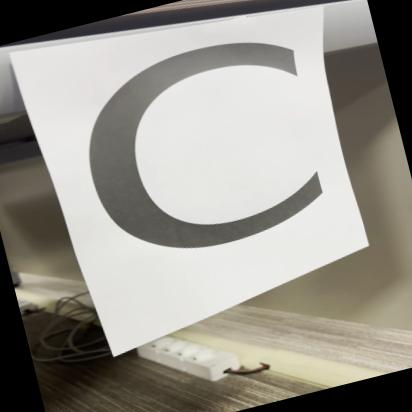seat: (36, 5, 362, 310)
